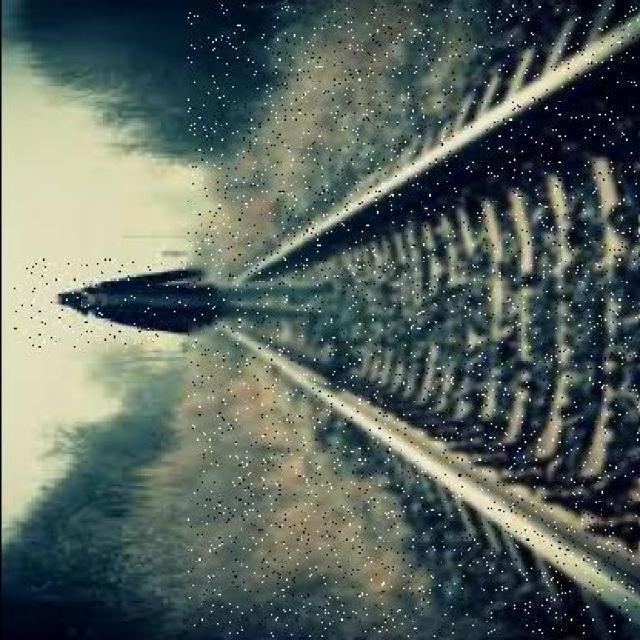danger: (12, 258, 342, 349)
rail: (187, 5, 637, 636)
